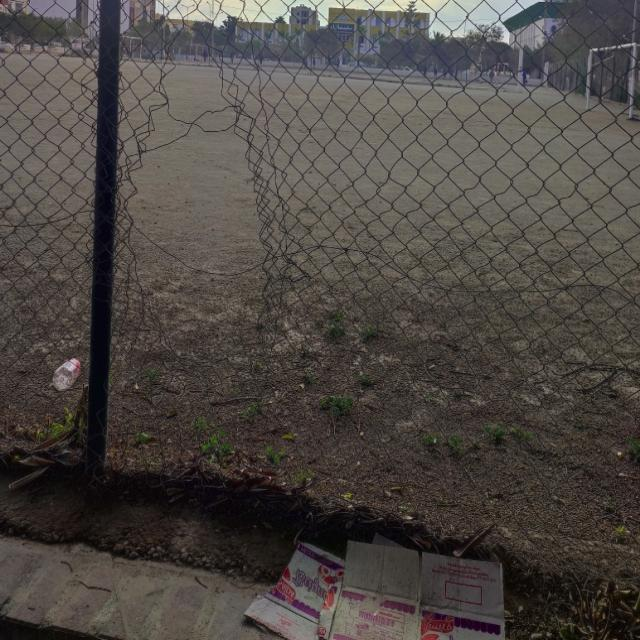fence line: (132, 43, 283, 334)
